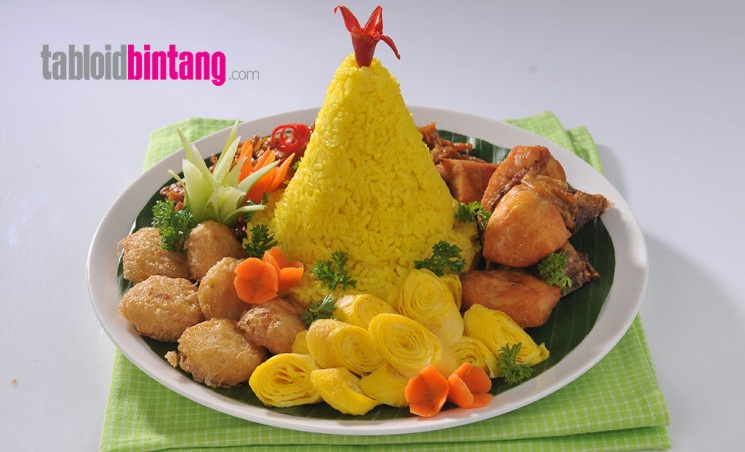tumpeng: (275, 28, 464, 254)
